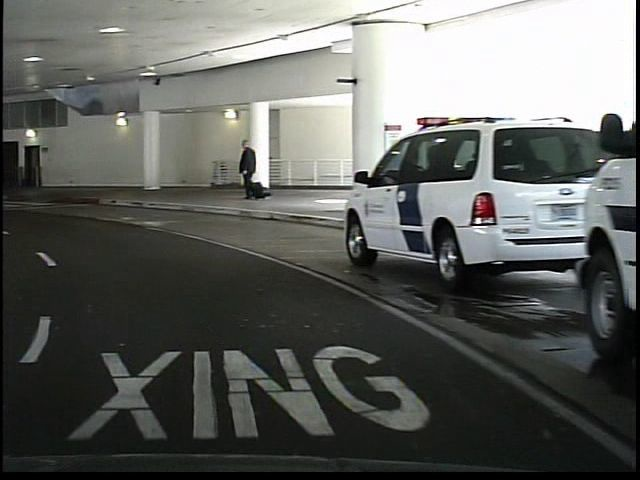person: (231, 137, 256, 202)
